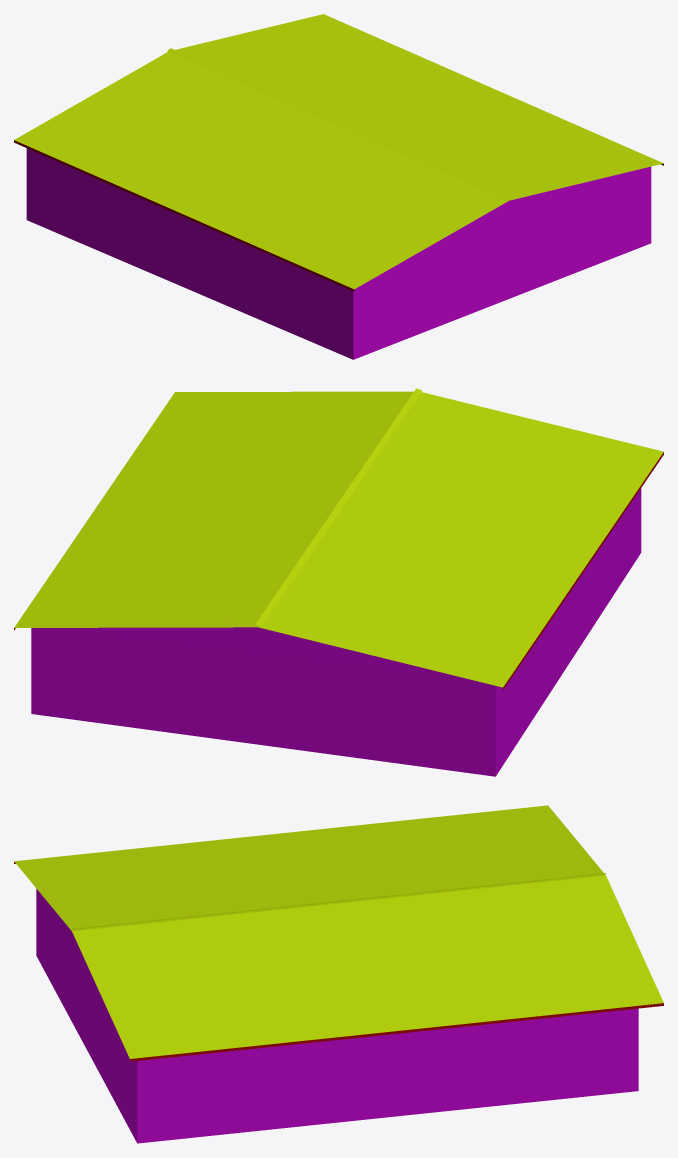
The model's file is svc_43.glb.
3 views of the same model, one above another, from view 1: azimuth 30°, elevation 25°; view 2: azimuth 150°, elevation 25°; view 3: azimuth 270°, elevation 25° (orthographic). The views are drawn at different scales.
Visible parts, largest first — view 1: svc_43; view 2: svc_43; view 3: svc_43.
Part boxes in pixels (x1,y1,x2,y2): svc_43: [14, 14, 663, 359]; svc_43: [14, 388, 663, 776]; svc_43: [14, 805, 663, 1143].
Size of the model in its own units: 23.67 by 5.28 by 25.63.
